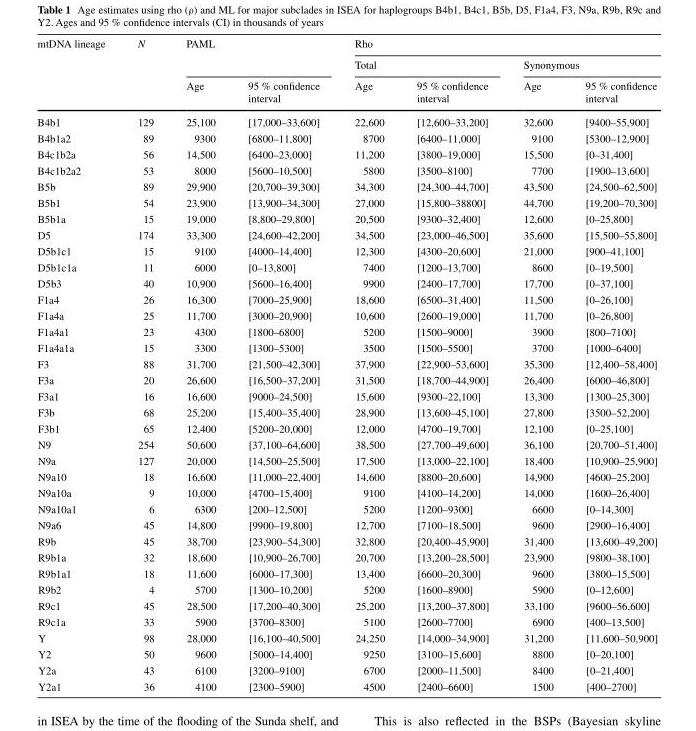table: (36, 36, 656, 691)
table column: (231, 36, 336, 691), (400, 36, 505, 691), (568, 36, 656, 691), (36, 36, 120, 691), (336, 36, 400, 691), (505, 36, 568, 691), (169, 36, 231, 691), (120, 36, 169, 691)
table column header: (36, 36, 656, 109)
table row: (36, 74, 656, 109), (36, 53, 656, 74), (36, 109, 656, 129), (36, 36, 656, 53), (36, 161, 656, 178), (36, 290, 656, 307), (36, 419, 656, 436), (36, 548, 656, 565), (36, 129, 656, 145), (36, 145, 656, 161), (36, 178, 656, 194), (36, 194, 656, 210), (36, 210, 656, 226), (36, 226, 656, 242), (36, 242, 656, 258), (36, 258, 656, 274), (36, 274, 656, 290), (36, 307, 656, 323), (36, 323, 656, 339), (36, 339, 656, 355), (36, 355, 656, 371), (36, 371, 656, 387), (36, 387, 656, 403), (36, 403, 656, 419), (36, 436, 656, 452), (36, 452, 656, 468), (36, 468, 656, 484), (36, 484, 656, 500), (36, 500, 656, 516), (36, 516, 656, 532), (36, 532, 656, 548), (36, 565, 656, 581), (36, 581, 656, 597), (36, 597, 656, 613), (36, 613, 656, 629), (36, 629, 656, 645), (36, 645, 656, 661), (36, 661, 656, 677), (36, 677, 656, 691)
table spanning cell: (169, 36, 336, 74), (36, 36, 120, 109), (336, 36, 656, 53), (120, 36, 169, 109), (336, 53, 505, 74), (505, 53, 656, 74)
